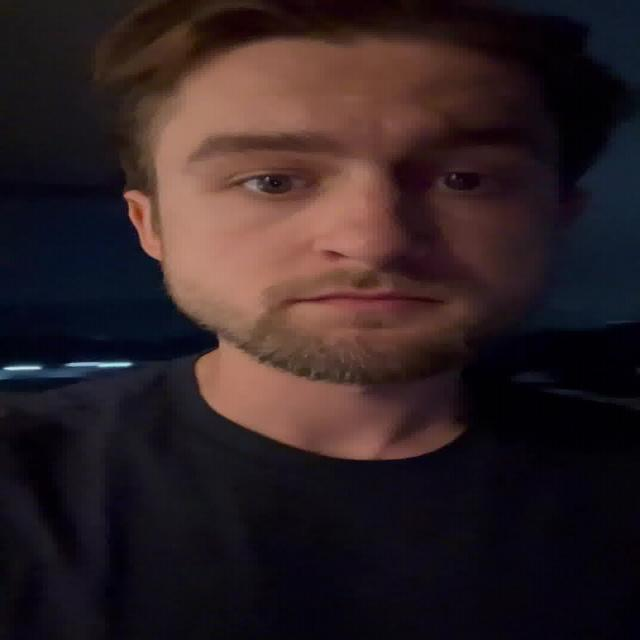earlobe: (138, 236, 168, 262)
eye: (229, 172, 317, 197), (427, 170, 505, 194)
nose: (318, 252, 420, 290)
wholeear: (121, 191, 168, 264), (555, 182, 592, 238)
